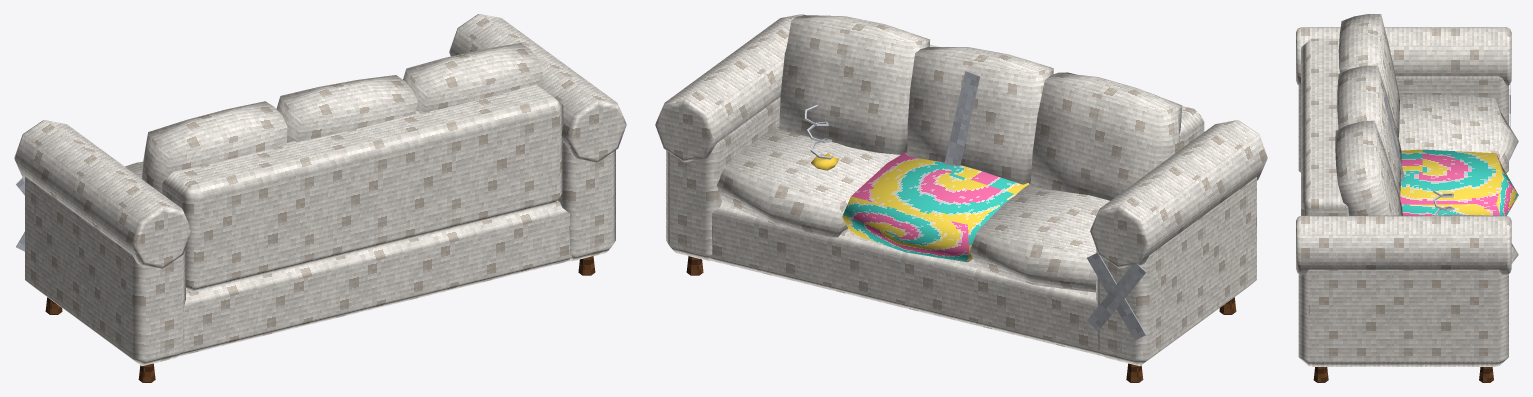
The model's file is s_sofa.glb.
3 views of the same model, side by side, from view 1: azimuth 30°, elevation 25°; view 2: azimuth 150°, elevation 25°; view 3: azimuth 270°, elevation 25° (orthographic). The views are drawn at different scales.
Parts seen in each view (by area): view 1: s_sofa_mesh; view 2: s_sofa_mesh; view 3: s_sofa_mesh.
Part boxes in pixels (x1,y1,x2,y2): s_sofa_mesh: (14,14,626,382); s_sofa_mesh: (655,14,1267,382); s_sofa_mesh: (1296,14,1518,382).
Size of what is drawn, in the model's own units: 2.03 by 0.8715 by 0.889.
5 materials, 5 textured.
